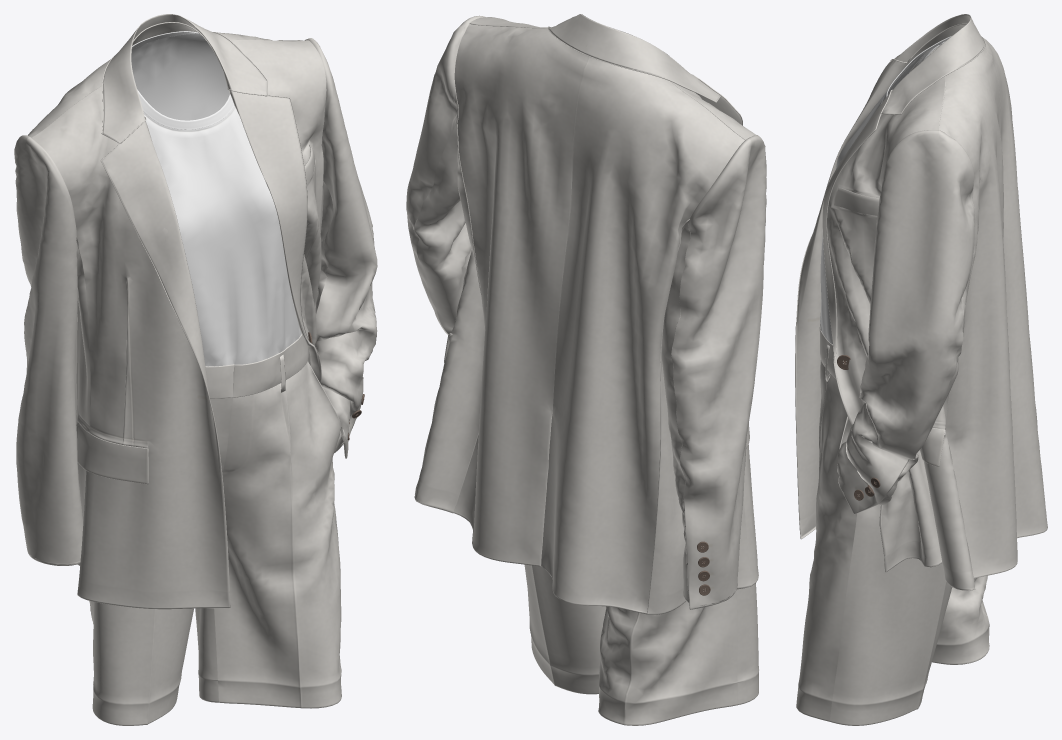
Rendered from white_suit_set.glb.
The picture shows the model from 3 angles, left to right: view 1: azimuth 30°, elevation 25°; view 2: azimuth 150°, elevation 25°; view 3: azimuth 270°, elevation 25°; orthographic projection. The views are drawn at different scales.
Visible parts, largest first — view 1: Object_4, Object_8, Object_5, Object_10, Object_6, Object_11, Object_7, Object_12, Object_15, Object_9, Object_14; view 2: Object_7, Object_5, Object_10, Object_9, Object_13, Object_11, Object_12, Object_14, Object_4; view 3: Object_11, Object_5, Object_6, Object_14, Object_8, Object_7, Object_4, Object_9, Object_12, Object_13.
Boxes of the visible parts, <box> form: Object_4: <box>32,85,230,609</box>; Object_8: <box>132,31,341,708</box>; Object_5: <box>143,32,303,392</box>; Object_10: <box>14,135,83,565</box>; Object_6: <box>227,39,326,383</box>; Object_11: <box>304,38,377,458</box>; Object_7: <box>28,59,232,725</box>; Object_12: <box>75,14,308,421</box>; Object_15: <box>131,33,310,154</box>; Object_9: <box>76,152,323,594</box>; Object_14: <box>132,22,314,702</box>; Object_7: <box>541,57,758,704</box>; Object_5: <box>453,24,589,566</box>; Object_10: <box>671,135,766,609</box>; Object_9: <box>414,124,751,615</box>; Object_13: <box>598,590,737,725</box>; Object_11: <box>406,15,485,334</box>; Object_12: <box>548,14,721,603</box>; Object_14: <box>524,43,605,694</box>; Object_4: <box>671,74,758,585</box>; Object_11: <box>837,130,974,514</box>; Object_5: <box>820,43,1017,578</box>; Object_6: <box>822,76,945,572</box>; Object_14: <box>829,23,980,725</box>; Object_8: <box>796,36,951,721</box>; Object_7: <box>982,37,1047,538</box>; Object_4: <box>795,49,930,539</box>; Object_9: <box>920,209,977,590</box>; Object_12: <box>840,14,985,446</box>; Object_13: <box>932,575,989,664</box>.
Size of the model in its own units: 518 by 981 by 341.
Materials: 3 (1 with a texture image).
